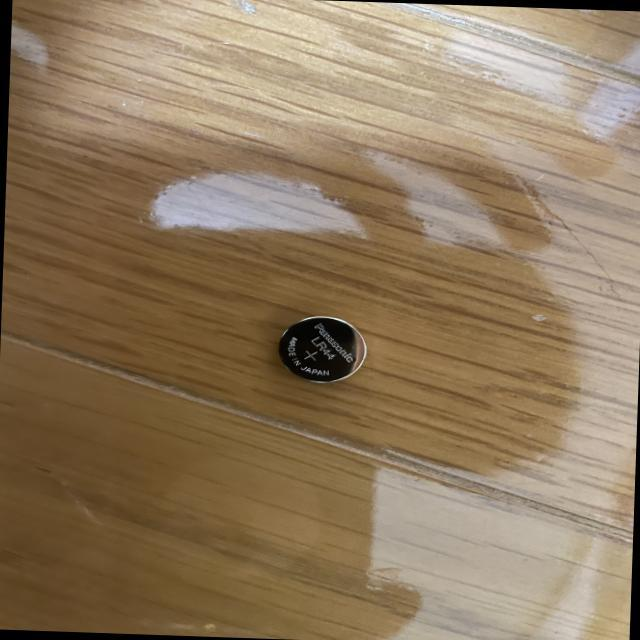COIN: (274, 314, 366, 387)
